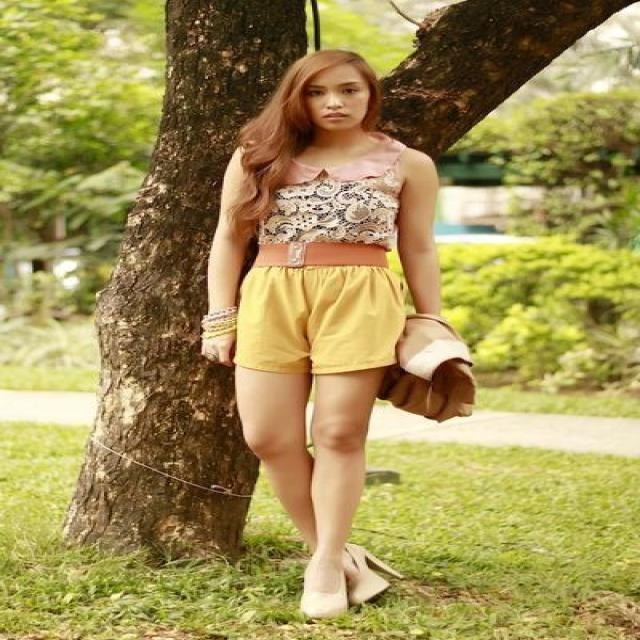bag: (374, 308, 476, 422)
shirt: (259, 152, 397, 259)
shoe: (299, 543, 389, 615)
shorts: (229, 266, 430, 370)
